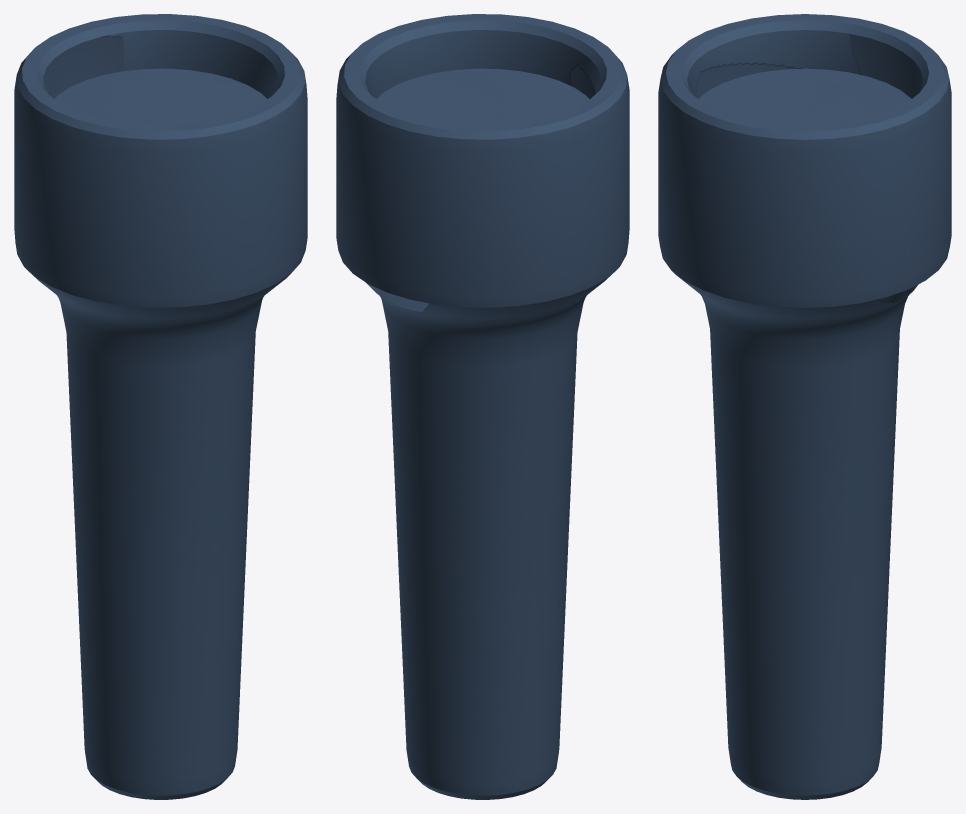
File: FlashLight.fbx
The picture shows the model from 3 angles, left to right: view 1: azimuth 30°, elevation 25°; view 2: azimuth 150°, elevation 25°; view 3: azimuth 270°, elevation 25°; orthographic projection.
Parts seen in each view (by area): view 1: Flashlight; view 2: Flashlight; view 3: Flashlight.
Part boxes in pixels (x1=…): Flashlight: x1=14, y1=14, x2=307, y2=799; Flashlight: x1=336, y1=14, x2=629, y2=799; Flashlight: x1=658, y1=14, x2=951, y2=799.
Size of the model in its own units: 123 by 323 by 123.
